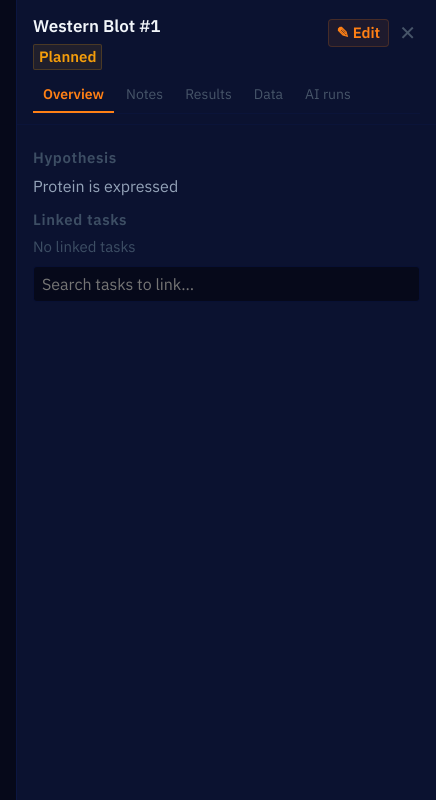
Test: ExperimentDetail › switches to RESULTS tab and shows Add Result button
The width and height of the screenshot is (436, 800).
Click the tab "Results" at (208, 96), box [175,78,242,113]
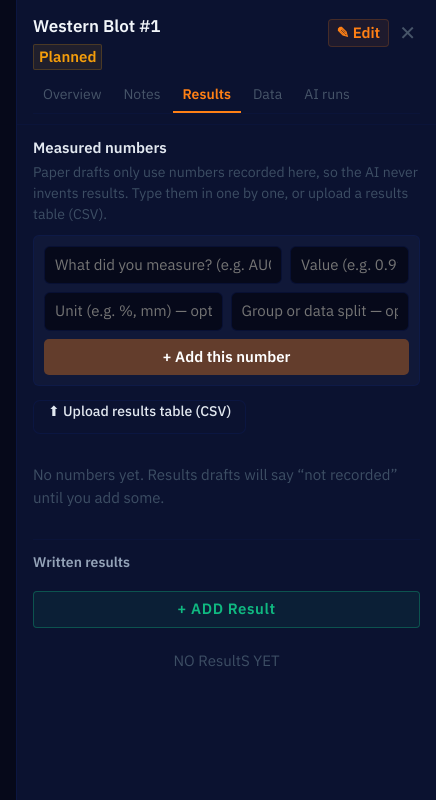
Expected: the button "+ ADD Result" is shown, [33,591,420,628]
